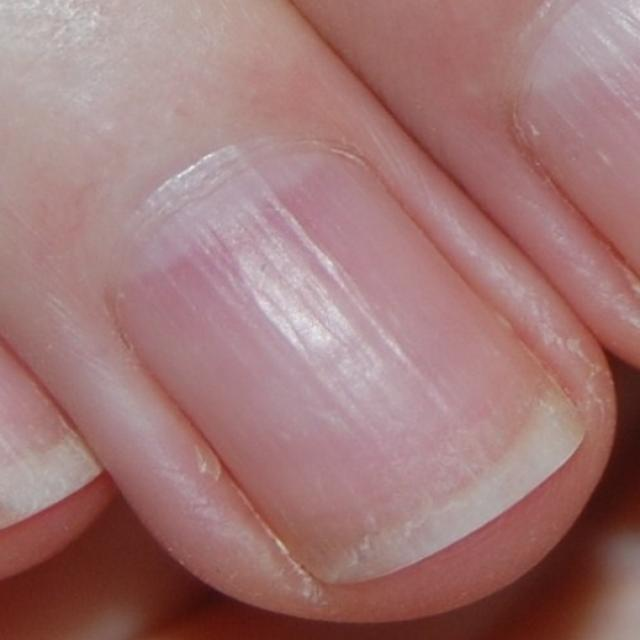Nail: (114, 138, 582, 579)
